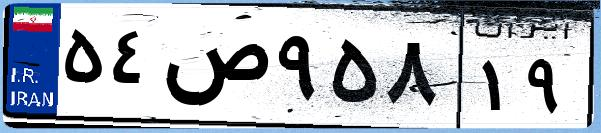1: (475, 38, 525, 113)
4: (110, 28, 158, 98)
5: (330, 28, 385, 110), (57, 26, 110, 100)
8: (385, 28, 445, 110)
9: (270, 28, 330, 110), (525, 38, 570, 115)
ص: (158, 20, 270, 120)
